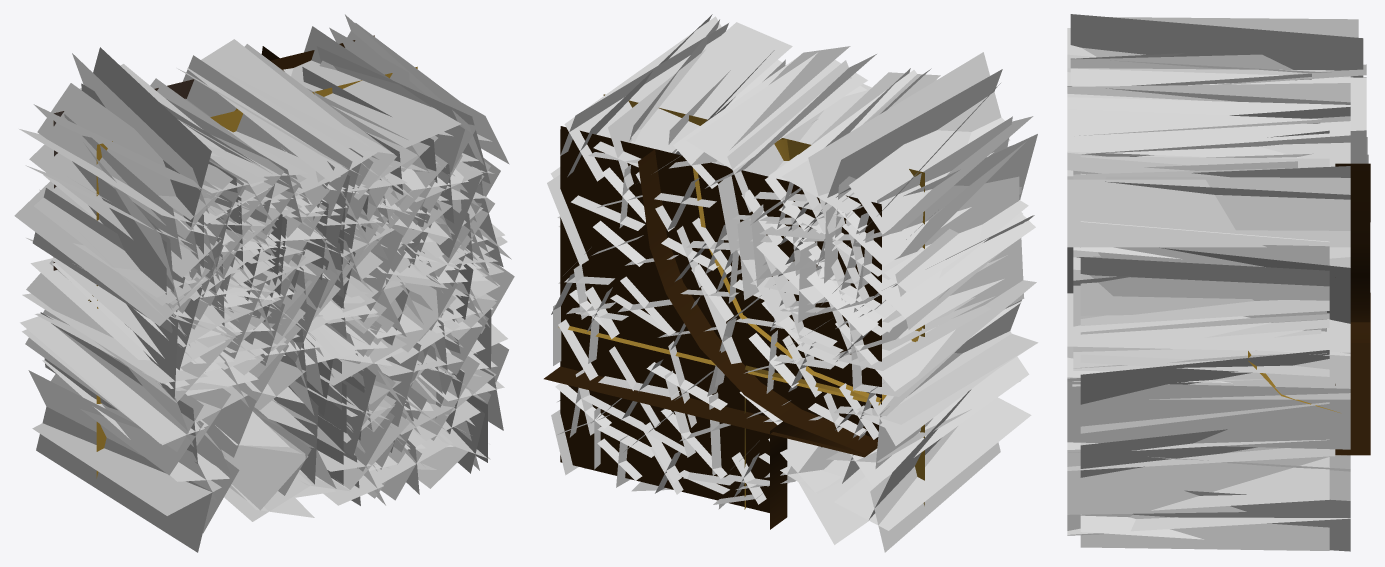
Rendered from SField.fbx.
The picture shows the model from 3 angles, left to right: view 1: azimuth 30°, elevation 25°; view 2: azimuth 150°, elevation 25°; view 3: azimuth 270°, elevation 25°; orthographic projection.
Visible parts, largest first — view 1: B240, B16, B112, B48; view 2: B240, B16, B112, B48; view 3: B240, B112, B16, B48.
Boxes of the visible parts, x1,y1,x2,y2 form: B240: (20, 14, 511, 552); B16: (14, 46, 350, 388); B112: (25, 35, 514, 505); B48: (51, 46, 503, 395); B240: (547, 14, 1038, 552); B16: (638, 52, 1035, 453); B112: (550, 50, 1033, 529); B48: (544, 19, 1003, 457); B240: (1067, 28, 1350, 551); B112: (1080, 130, 1370, 550); B16: (1070, 14, 1370, 322); B48: (1072, 73, 1370, 455).
Size of the model in its own units: 1.15 by 1.19 by 0.8032.
